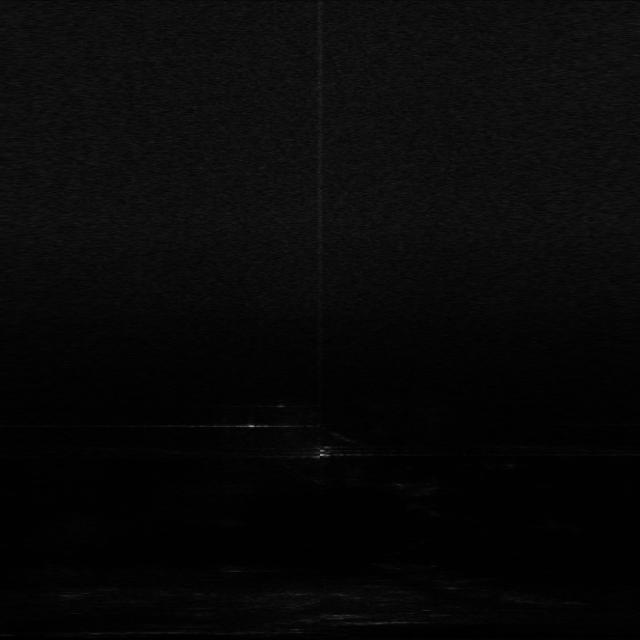rov: (306, 444, 334, 460)
